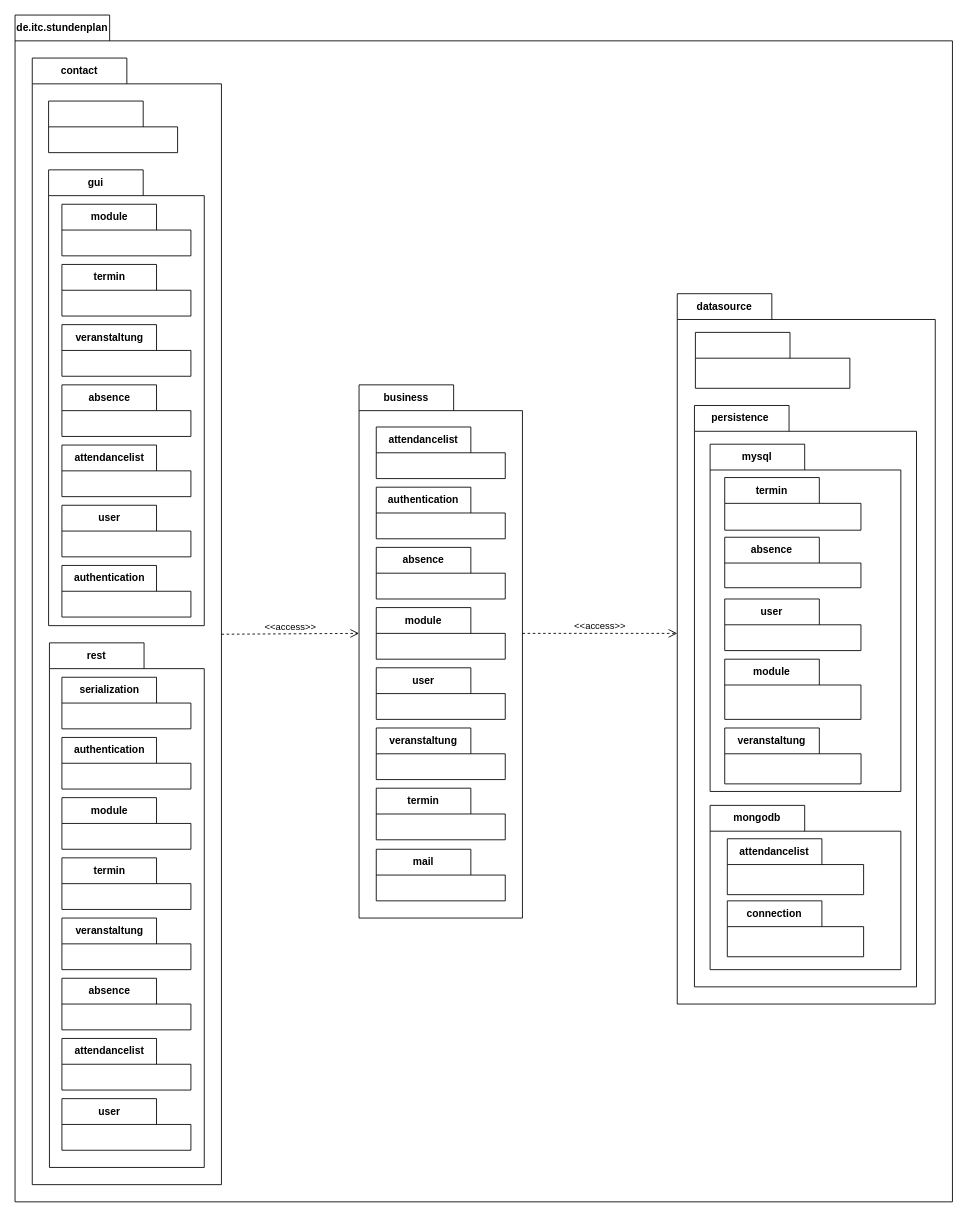
Image size: 968x1217. Some labels were removed from this diagram. Here are the shapes that lost their labels. From the top down, the centre of each, then its label:
At (x=113, y=126): "authorization".
At (x=772, y=360): "ai".
